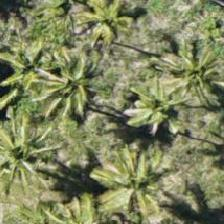coconut_tree: (22, 25, 112, 115), (109, 62, 199, 152), (87, 130, 177, 220), (151, 30, 223, 120), (0, 106, 56, 196), (0, 18, 53, 108)
